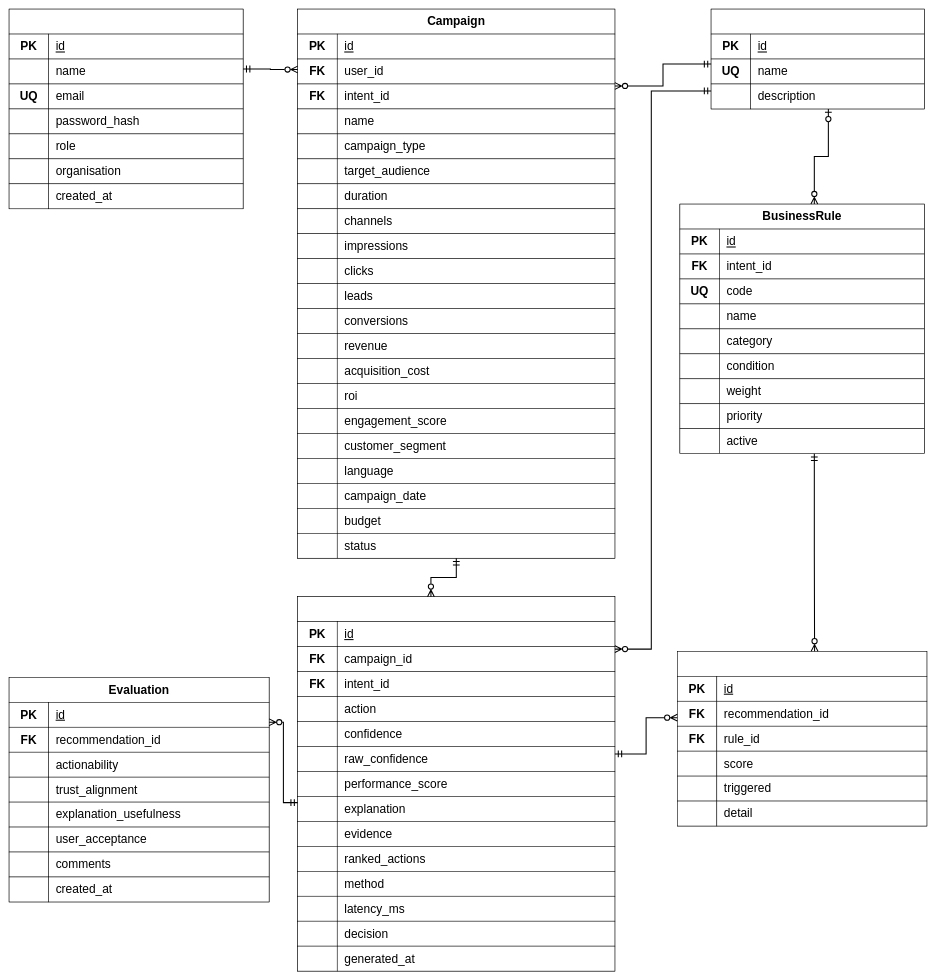
This 936x980 diagram has some shape labels left out. The shapes that lost their labels are listed below. From the top down, each one's box as (x1, y1, x2, y2) in pixels, then its label:
(9, 9, 243, 34): User
(711, 9, 924, 34): Intent
(297, 596, 615, 622): Recommendation
(677, 651, 927, 676): RecommendationRule
